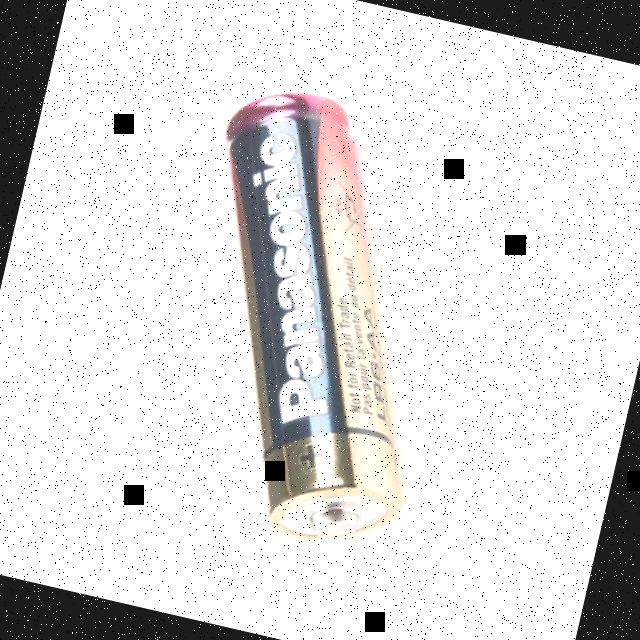battery: (224, 92, 401, 540)
